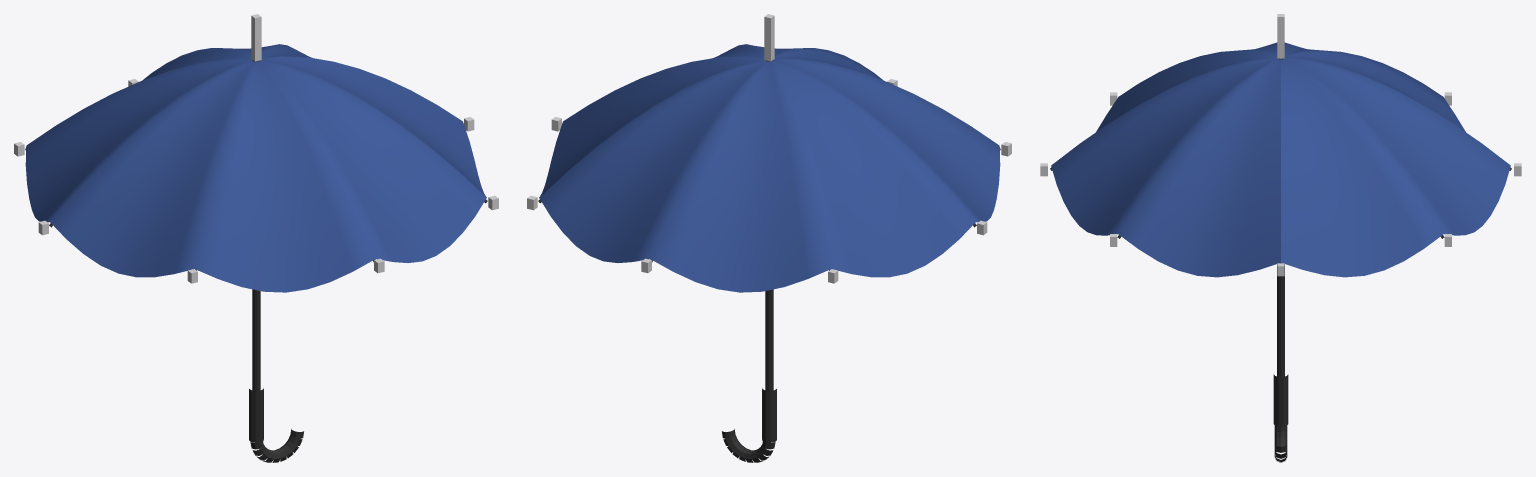
Rendered from azul.gltf.
3 renders of one model, left to right at view 1: azimuth 30°, elevation 25°; view 2: azimuth 150°, elevation 25°; view 3: azimuth 270°, elevation 25°, orthographic. The views are drawn at different scales.
Parts seen in each view (by area): view 1: carro; view 2: carro; view 3: carro.
Part boxes in pixels (bbox=[...]): carro: bbox=[14, 14, 498, 462]; carro: bbox=[527, 14, 1011, 462]; carro: bbox=[1040, 14, 1521, 462].
Bounding box in the file's own units: 1.05 × 1.04 × 1.05.
